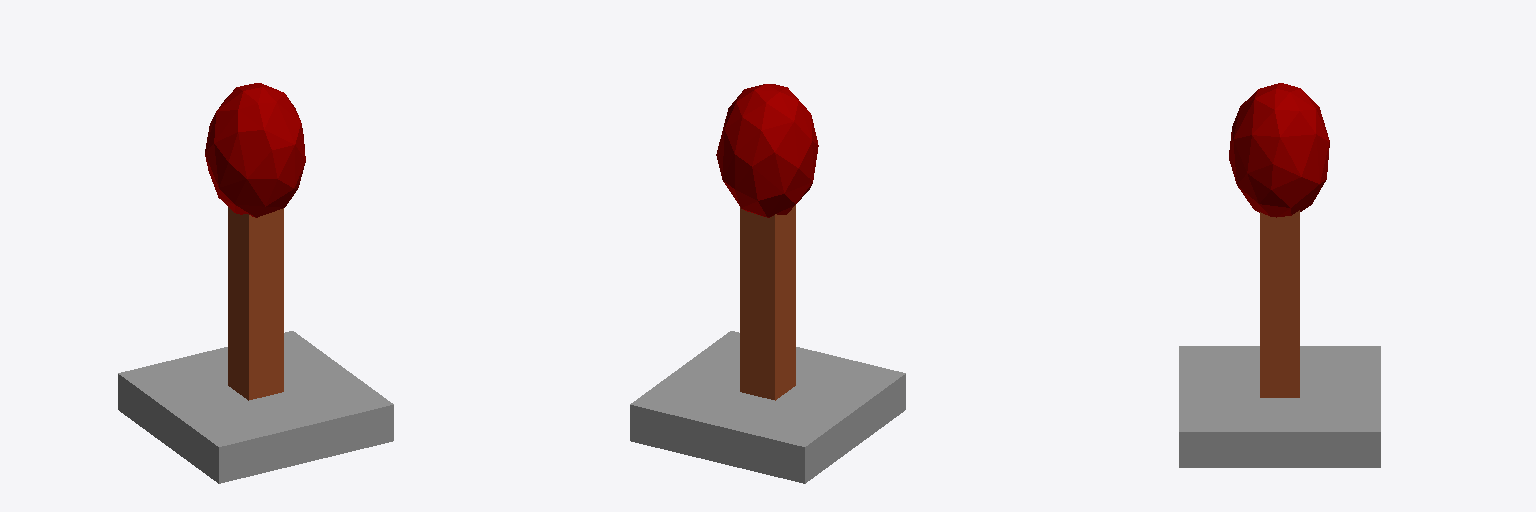
Rendered from Touch.obj.
3 views of the same model, side by side, from view 1: azimuth 30°, elevation 25°; view 2: azimuth 150°, elevation 25°; view 3: azimuth 270°, elevation 25° (orthographic).
Parts seen in each view (by area): view 1: 立方体; view 2: 立方体; view 3: 立方体.
Boxes of the visible parts, x1,y1,x2,y2 form: 立方体: [118, 83, 393, 483]; 立方体: [630, 84, 905, 483]; 立方体: [1179, 83, 1380, 467].
Size of the model in its own units: 50 by 92.57 by 50.